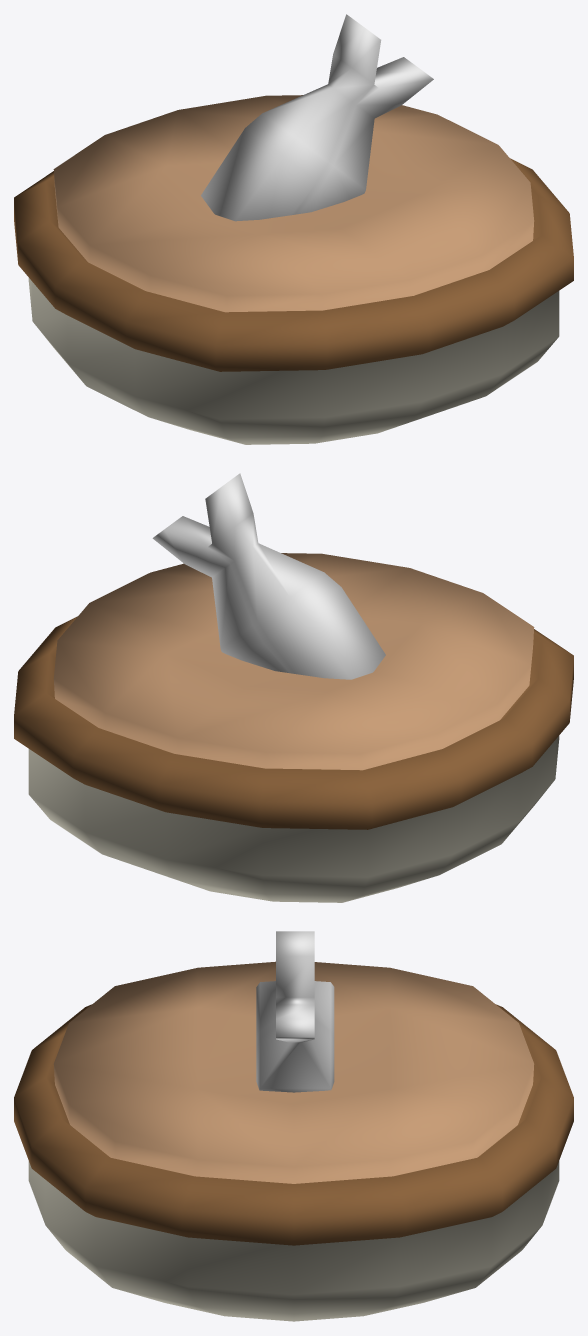
File: pie_fish.fbx
3 renders of one model, top to bottom at view 1: azimuth 30°, elevation 25°; view 2: azimuth 150°, elevation 25°; view 3: azimuth 270°, elevation 25°, orthographic. The views are drawn at different scales.
Parts seen in each view (by area): view 1: ApplePie, Cube; view 2: ApplePie, Cube; view 3: ApplePie, Cube.
Part boxes in pixels (<box>): ApplePie: <box>14,95,573,444</box>; Cube: <box>201,14,433,221</box>; ApplePie: <box>14,553,573,902</box>; Cube: <box>152,473,385,679</box>; ApplePie: <box>14,961,573,1321</box>; Cube: <box>256,931,334,1092</box>.
Bounding box in the file's own units: 346 × 233 × 340.
